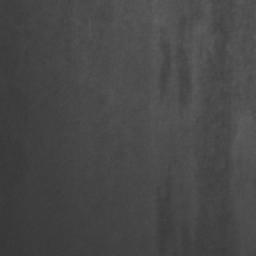Inclusion: (196, 0, 239, 256), (156, 195, 180, 256), (177, 49, 192, 110), (159, 37, 172, 97)
